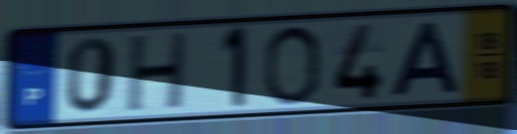0: (63, 34, 118, 117)
1: (218, 23, 252, 113)
4: (331, 21, 386, 103)
A: (388, 18, 464, 100)
H: (123, 29, 191, 116)
O: (260, 22, 324, 108)
